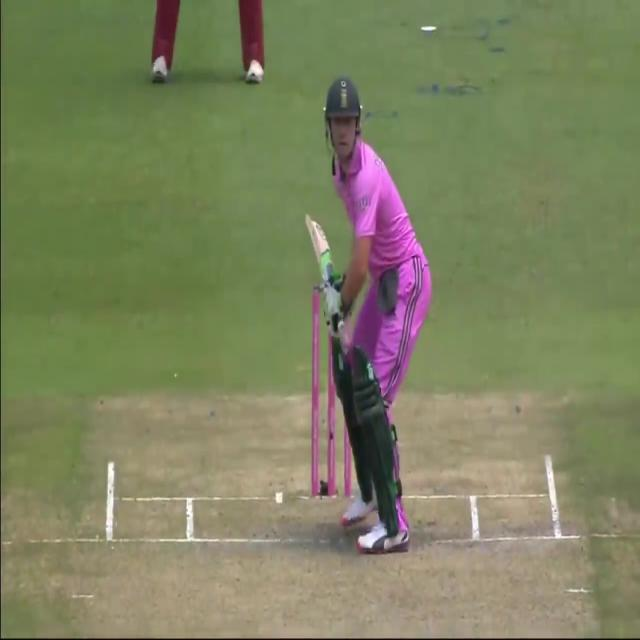Ball: (300, 60, 438, 560)
Fielder: (140, 0, 273, 84)
